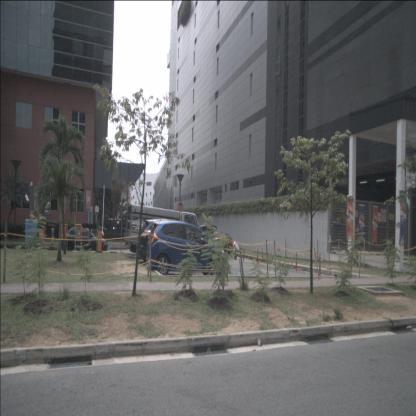vehicle-car: (146, 222, 230, 275), (138, 218, 210, 266), (60, 227, 108, 253), (210, 230, 234, 252)
vehicle-truck: (125, 204, 202, 260)
